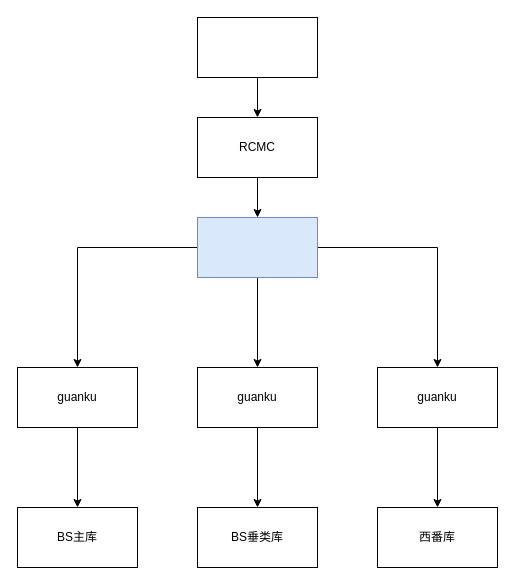
Some shapes in this 515 by 585 pixel diagram are drawn without their labels. The centre of each missing label's shape, as x and y in pixels:
"AL2" belongs at [257,47].
"guanku-dispatcher" belongs at [257,247].
